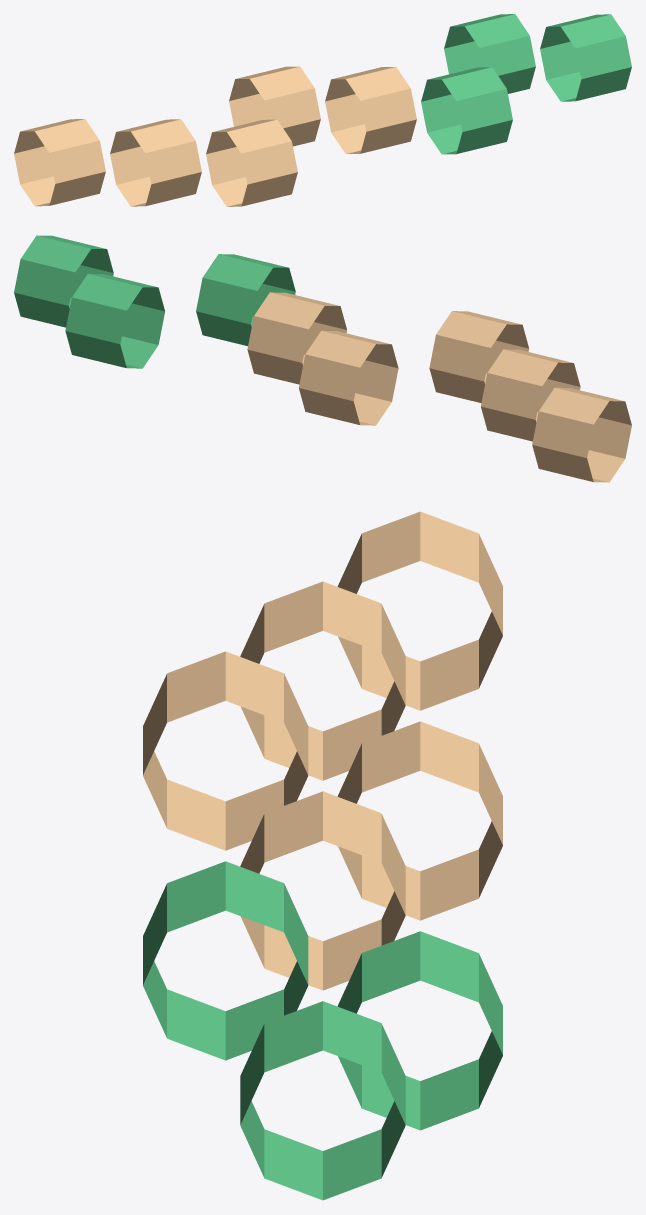
Rendered from lemongrass-chopped.glb.
3 views of the same model, one above another, from view 1: azimuth 30°, elevation 25°; view 2: azimuth 150°, elevation 25°; view 3: azimuth 270°, elevation 25° (orthographic). The views are drawn at different scales.
Parts seen in each view (by area): view 1: lemongrass-chopped; view 2: lemongrass-chopped; view 3: lemongrass-chopped.
Boxes of the visible parts, x1,y1,x2,y2 form: lemongrass-chopped: [14, 14, 631, 206]; lemongrass-chopped: [14, 235, 631, 482]; lemongrass-chopped: [143, 511, 502, 1200].
Size of the model in its own units: 0.262 by 0.034 by 0.074.
1 material, 1 textured.
